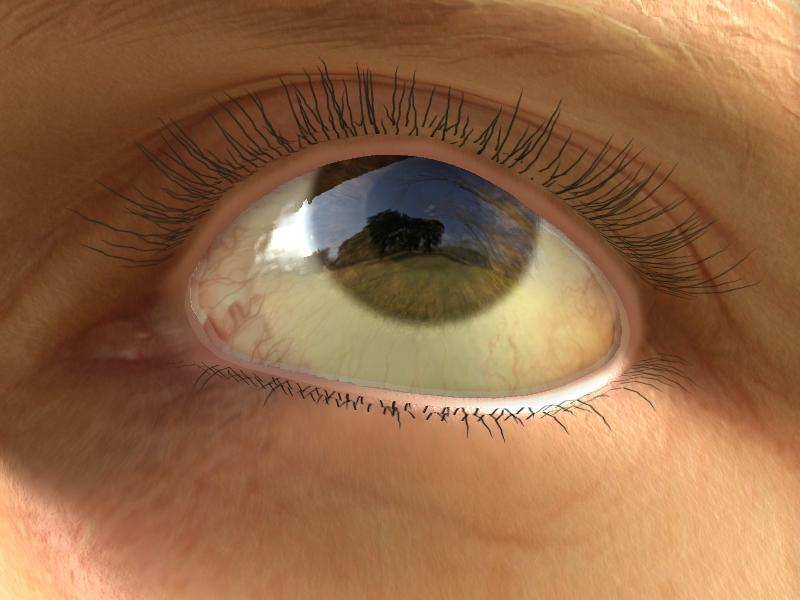eye: (312, 154, 535, 328)
